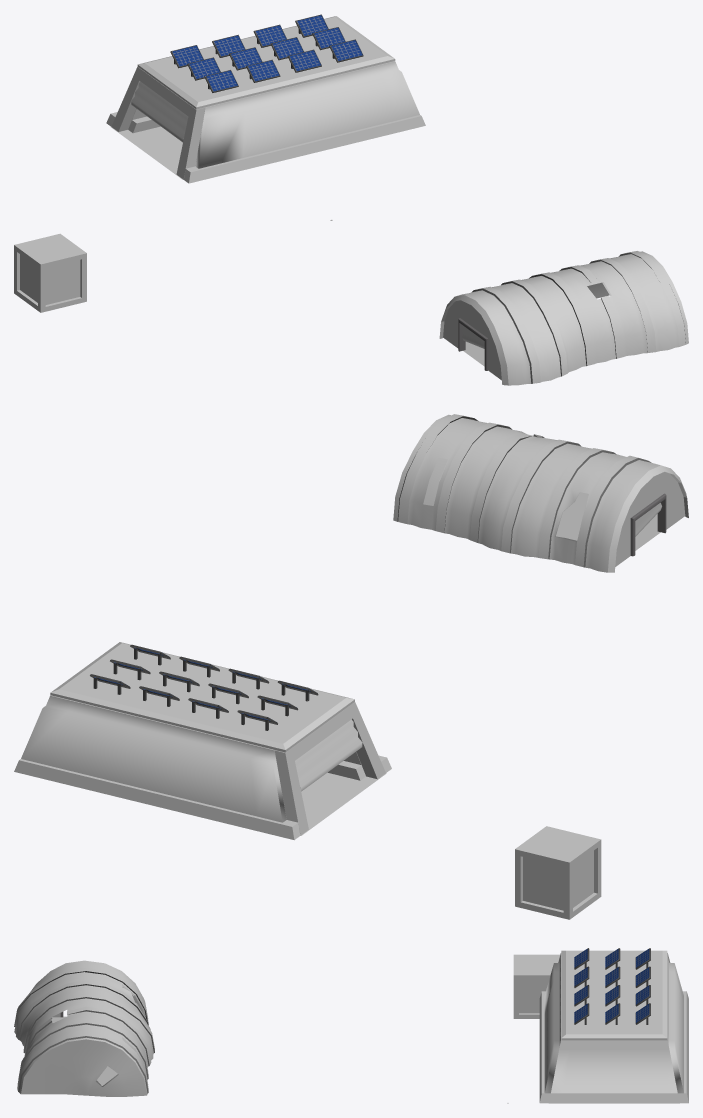
The model's file is hangars_en_crates_.fbx.
3 views of the same model, one above another, from view 1: azimuth 30°, elevation 25°; view 2: azimuth 150°, elevation 25°; view 3: azimuth 270°, elevation 25° (orthographic). The views are drawn at different scales.
Visible parts, largest first — view 1: pCylinder17, pPlane1, pCube26, pCube52, pCube25, pCube24, pPlane2; view 2: pCylinder17, pPlane1, pCube26, pCube52, pCube25, pCube24, pPlane2, pPlane3; view 3: pCylinder17, pPlane1, pCube26, pCube52, pPlane3.
Part boxes in pixels (x1,y1,x2,y2): pCylinder17: (439, 251, 688, 385); pPlane1: (106, 61, 425, 183); pCube26: (137, 16, 395, 109); pCube52: (14, 233, 86, 312); pCube25: (111, 66, 205, 179); pCube24: (131, 81, 188, 142); pPlane2: (111, 126, 183, 179); pCylinder17: (393, 414, 688, 572); pPlane1: (14, 695, 391, 840); pCube26: (50, 642, 354, 752); pCube52: (515, 826, 601, 919); pCube25: (274, 702, 385, 835); pCube24: (295, 719, 362, 791); pPlane2: (300, 772, 386, 835); pPlane3: (556, 492, 660, 550); pCylinder17: (14, 960, 154, 1096); pPlane1: (539, 957, 688, 1103); pCube26: (561, 950, 667, 1040); pCube52: (513, 954, 560, 1018); pPlane3: (51, 1016, 117, 1085).
Bounding box in the file's own units: 606 × 227 × 980.
